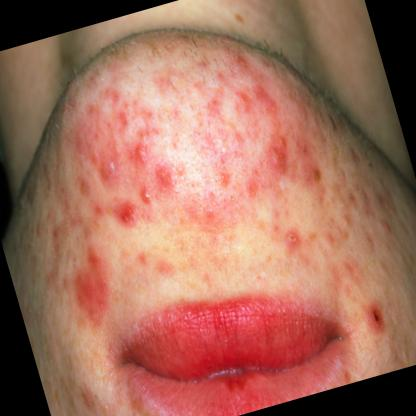Acne: (114, 198, 141, 232), (278, 223, 307, 254), (136, 180, 159, 209)
